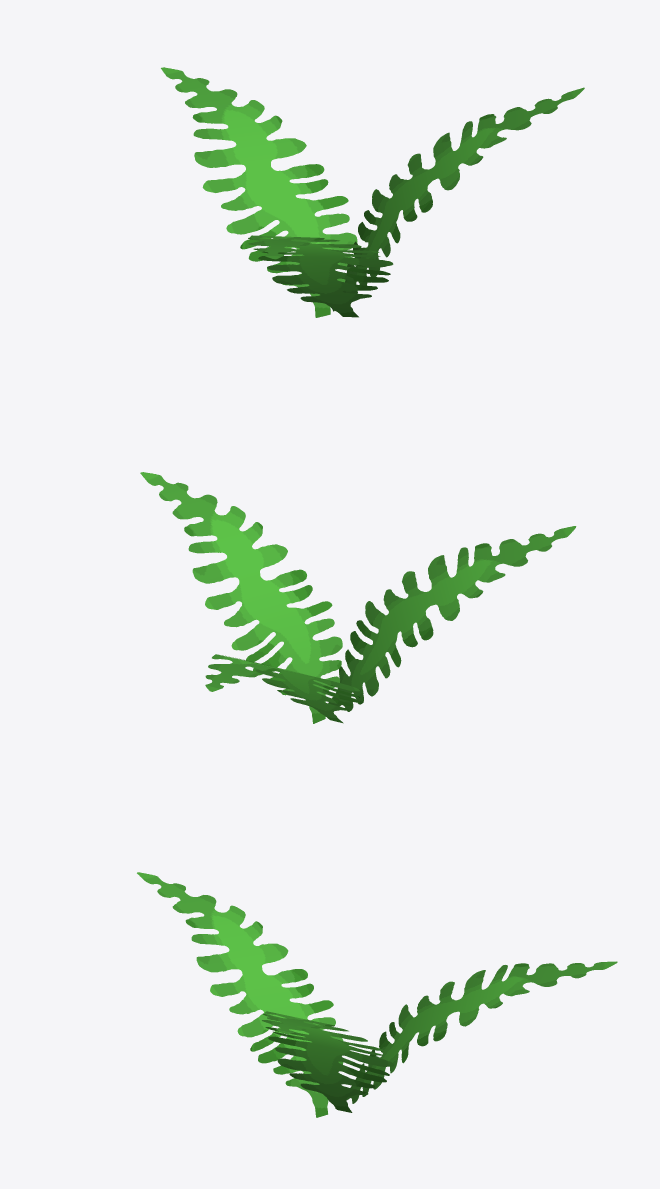
Rendered from Grass 05_preview_3DS_simplified.glb.
The picture shows the model from 3 angles, top to bottom: view 1: azimuth 30°, elevation 25°; view 2: azimuth 150°, elevation 25°; view 3: azimuth 270°, elevation 25°; orthographic projection. The views are drawn at different scales.
Visible parts, largest first — view 1: Marine Park Empire model; view 2: Marine Park Empire model; view 3: Marine Park Empire model.
Part boxes in pixels (x1=…): Marine Park Empire model: x1=161, y1=67, x2=584, y2=317; Marine Park Empire model: x1=140, y1=472, x2=576, y2=723; Marine Park Empire model: x1=137, y1=872, x2=617, y2=1117.
Bounding box in the file's own units: 72.88 × 26.43 × 71.24.
1 material, 1 textured.
